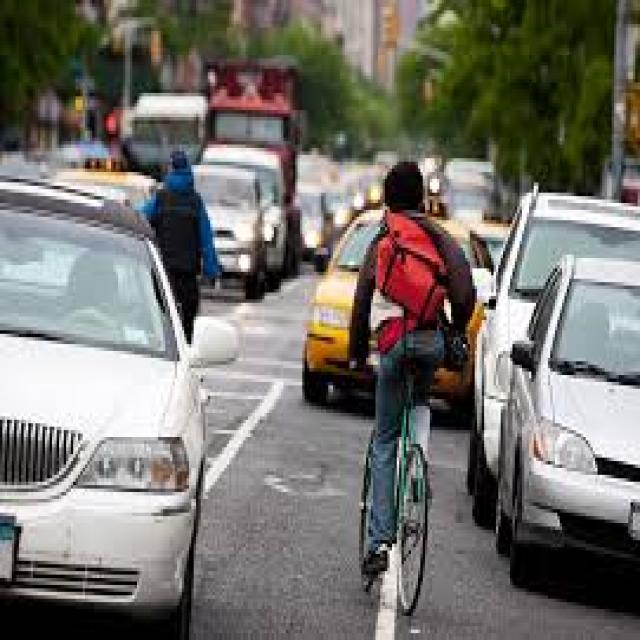high_traffic: (13, 44, 584, 636)
